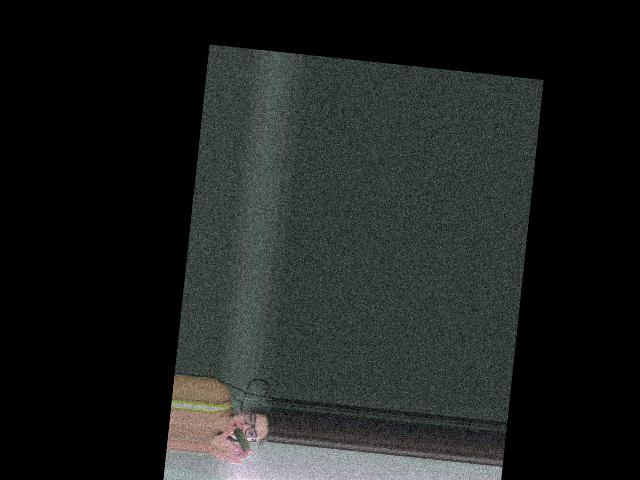cucumber: (231, 426, 253, 451)
